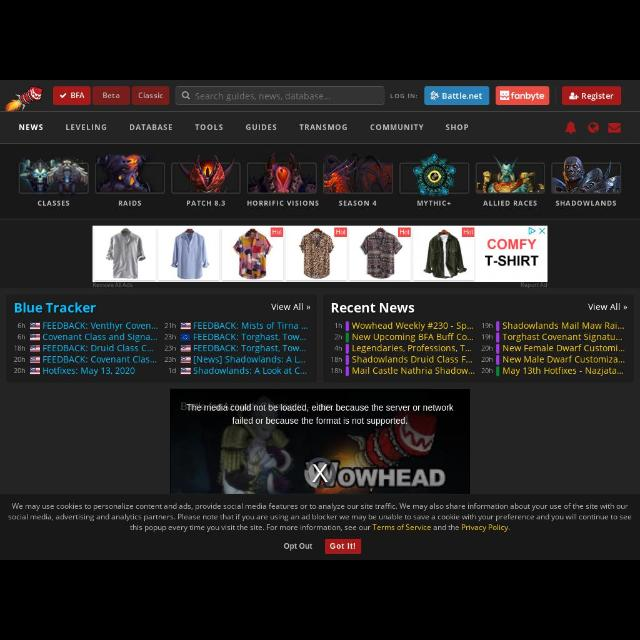icon: (606, 121, 622, 132), (564, 120, 576, 134), (587, 120, 599, 134), (500, 90, 510, 100), (181, 91, 191, 99), (430, 92, 440, 100), (570, 92, 578, 100), (60, 92, 66, 98)
iframe: (93, 226, 547, 282)
image: (170, 390, 470, 494), (401, 153, 469, 194), (247, 153, 316, 193), (324, 154, 392, 193), (476, 154, 544, 193), (173, 156, 240, 194), (550, 156, 620, 192), (96, 156, 164, 192), (20, 161, 89, 195), (8, 86, 42, 114)
input: (176, 87, 384, 105)
multitab: (1, 110, 639, 144)
text: (9, 502, 632, 532), (42, 320, 160, 332), (193, 321, 309, 332), (352, 366, 476, 376), (42, 342, 154, 353), (502, 320, 624, 330), (502, 343, 624, 353), (503, 354, 625, 364), (502, 366, 624, 376), (352, 343, 473, 353), (353, 321, 473, 331), (503, 332, 622, 342), (43, 332, 159, 342), (44, 355, 158, 365), (192, 343, 306, 353), (15, 301, 95, 315), (331, 302, 415, 314), (194, 333, 306, 342), (353, 333, 475, 341), (352, 356, 474, 364), (194, 366, 308, 374), (194, 356, 306, 364), (196, 94, 330, 100), (43, 368, 135, 374), (246, 200, 320, 207), (482, 200, 538, 208), (511, 90, 545, 102), (66, 122, 106, 132), (299, 123, 347, 131), (554, 200, 616, 206), (586, 302, 622, 312), (370, 124, 424, 130), (582, 92, 614, 102), (272, 302, 304, 312), (282, 541, 314, 551), (39, 198, 70, 208), (246, 123, 276, 133), (338, 200, 378, 207), (187, 200, 226, 207), (128, 124, 172, 130), (18, 122, 44, 132), (444, 122, 470, 132), (442, 94, 484, 100), (416, 200, 450, 207), (389, 93, 418, 101), (138, 92, 164, 100), (330, 542, 356, 550), (196, 124, 224, 130), (118, 200, 142, 207), (330, 366, 344, 376), (481, 320, 495, 330), (481, 366, 494, 376), (480, 355, 494, 363), (165, 333, 178, 341), (104, 93, 120, 99), (164, 344, 176, 352), (482, 344, 494, 352), (482, 333, 493, 341), (14, 344, 26, 351), (14, 366, 24, 374), (167, 365, 177, 373), (334, 321, 344, 329), (334, 344, 344, 352), (332, 355, 342, 363), (165, 322, 178, 328), (72, 92, 84, 98), (14, 356, 26, 362), (164, 356, 176, 362), (334, 334, 344, 341), (18, 322, 24, 328), (18, 333, 24, 339)
textbutton: (424, 86, 490, 105), (562, 88, 620, 106), (496, 87, 548, 105), (92, 86, 130, 104), (54, 86, 90, 104), (133, 86, 169, 104), (324, 539, 362, 553)
toolbar: (1, 80, 639, 110)
